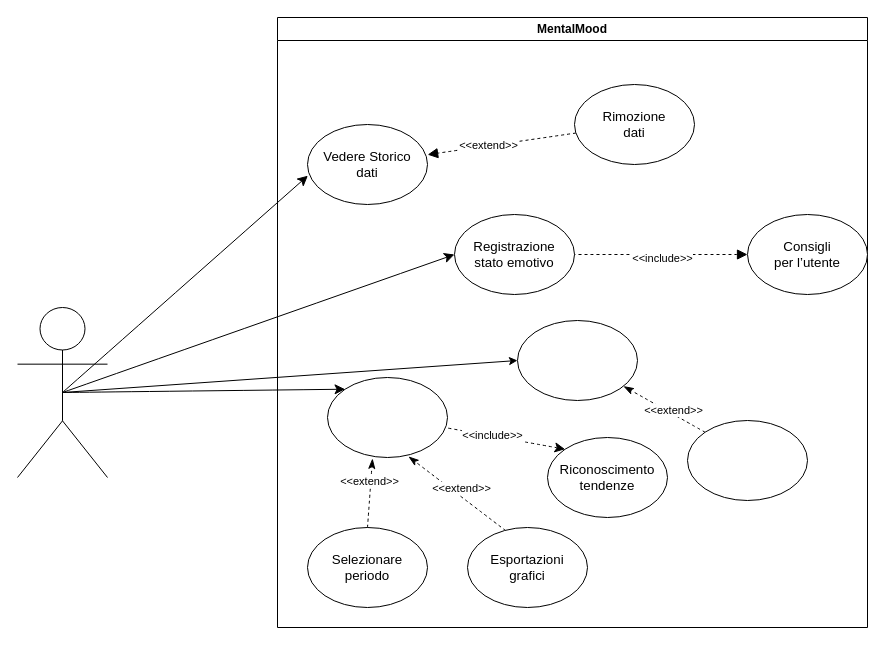
Image size: 885x645. Some labels were removed from this diagram. Here are the shapes that lost their labels. From the top down, the box of each, then its label:
(516, 320, 638, 400): Gestione notifiche
(16, 306, 108, 478): User
(326, 376, 448, 458): Vedere Statistiche
(686, 420, 808, 500): Notifiche
